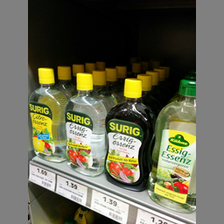vinegar: (149, 75, 197, 216), (102, 79, 153, 192), (63, 74, 108, 177), (29, 67, 68, 162)
